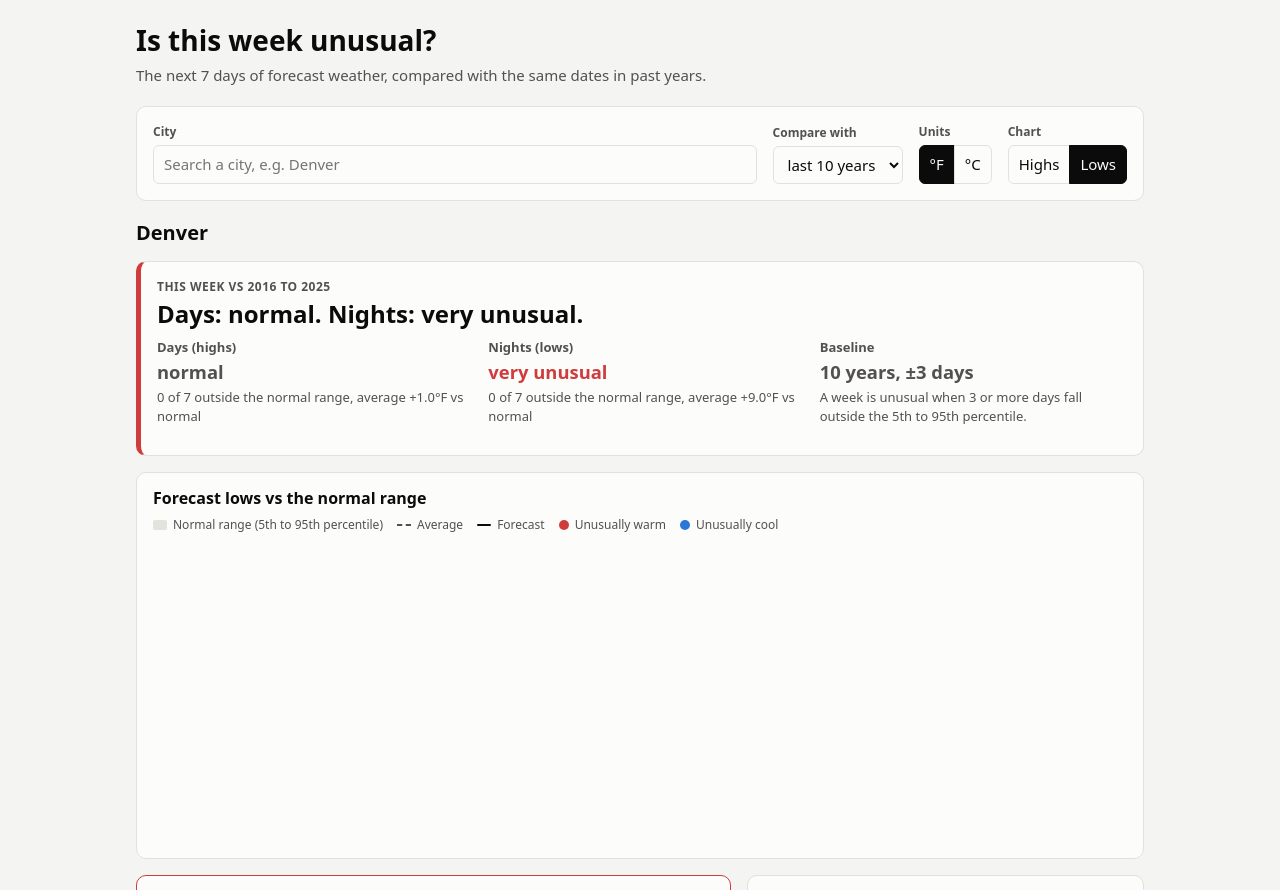
Test: without a manual choice, the chart follows the verdict when the data changes
Expected: the heading "Forecast lows vs the normal range" is shown, [153,487,426,509]
Click the button "°C" at [973, 164], box [954,145,992,184]
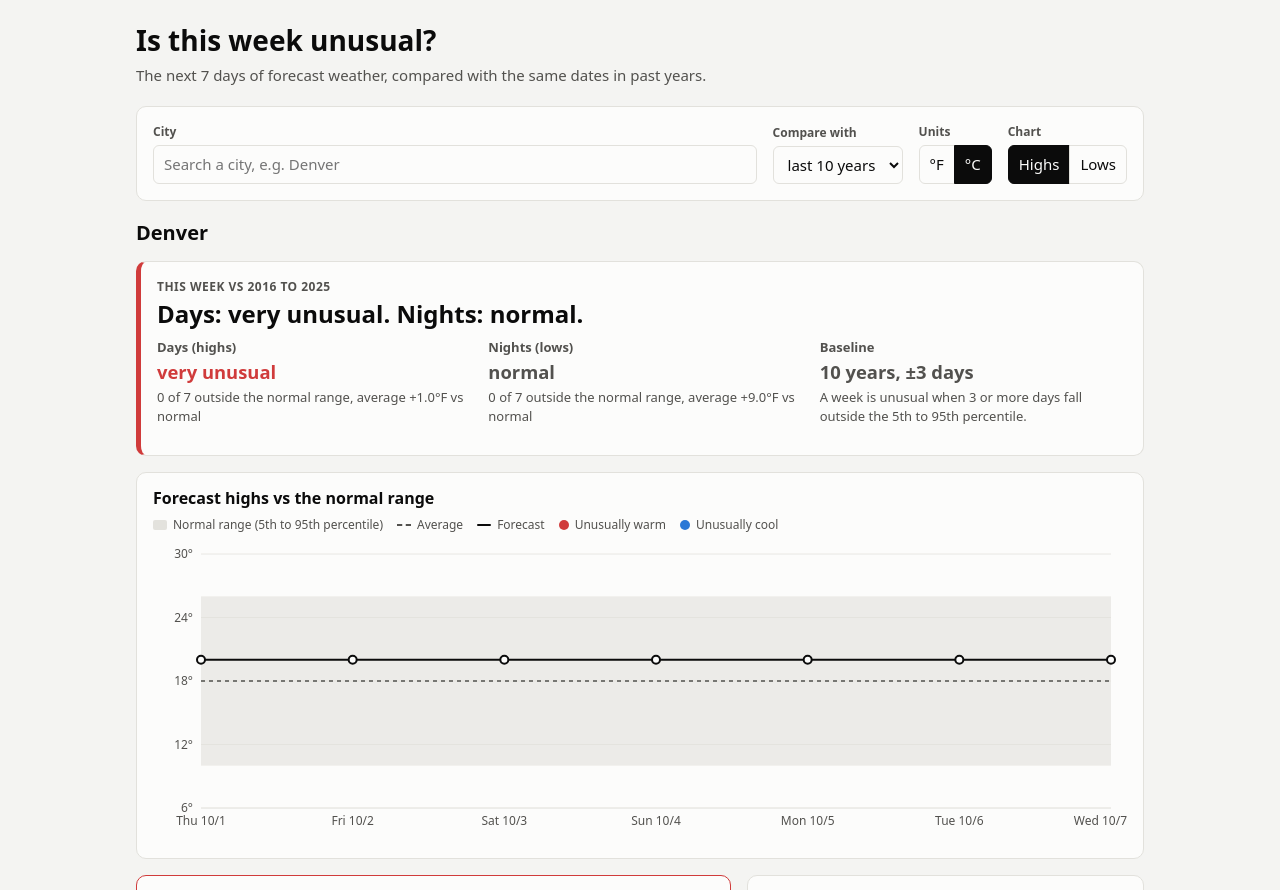
Expected: the heading "Days: very unusual. Nights: normal." is shown, [157,297,583,330]
Expected: the heading "Forecast highs vs the normal range" is shown, [153,487,434,509]
